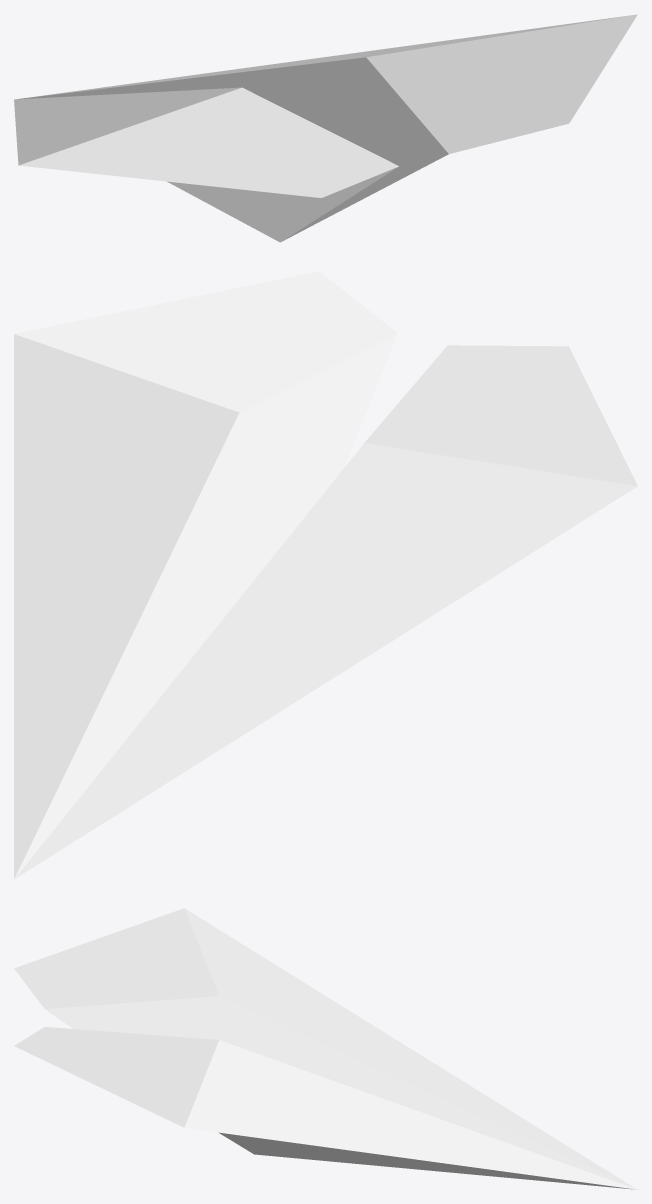
3 renders of one model, top to bottom at view 1: azimuth 30°, elevation 25°; view 2: azimuth 150°, elevation 25°; view 3: azimuth 270°, elevation 25°, orthographic. The views are drawn at different scales.
Parts seen in each view (by area): view 1: plane; view 2: plane; view 3: plane.
Part boxes in pixels (left/top/right/bottom): plane: left=14, top=14, right=637, bottom=242; plane: left=14, top=271, right=637, bottom=879; plane: left=14, top=908, right=637, bottom=1189.
Size of the model in its own units: 0.3125 by 0.125 by 0.375.
1 material, 1 textured.
